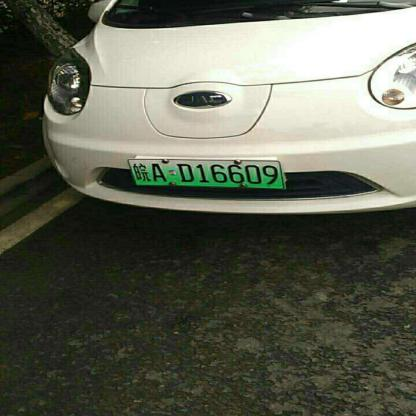lp: (128, 161, 282, 187)
